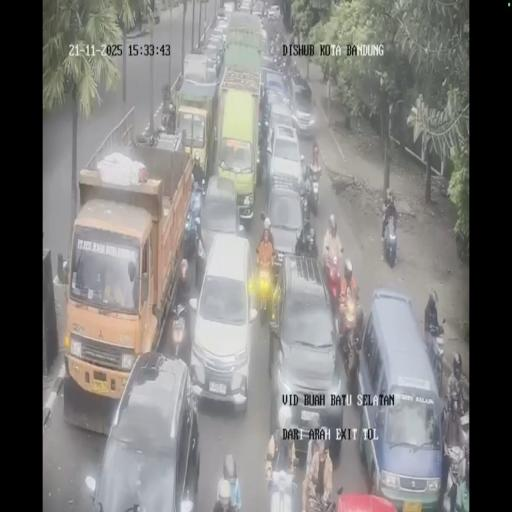3: (172, 71, 218, 182), (221, 9, 263, 81)
car: (357, 289, 443, 505), (90, 352, 200, 509), (269, 256, 344, 454), (188, 233, 256, 409), (197, 172, 243, 262), (264, 190, 305, 264), (266, 122, 302, 186), (287, 72, 316, 136), (261, 67, 290, 112), (202, 29, 226, 73), (260, 27, 268, 60), (215, 5, 229, 22), (268, 4, 280, 21), (239, 0, 252, 13), (252, 7, 262, 18)
truck: (255, 256, 279, 321), (168, 297, 188, 360), (382, 210, 398, 266), (304, 172, 319, 216), (160, 92, 176, 130), (290, 56, 302, 81), (268, 36, 277, 58)
